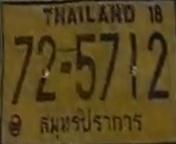1: (129, 31, 138, 99), (128, 31, 136, 74)
2: (36, 34, 58, 103), (148, 30, 169, 99)
5: (74, 33, 96, 99)
7: (10, 35, 33, 104), (99, 32, 120, 101)
SPK: (38, 107, 146, 143)
